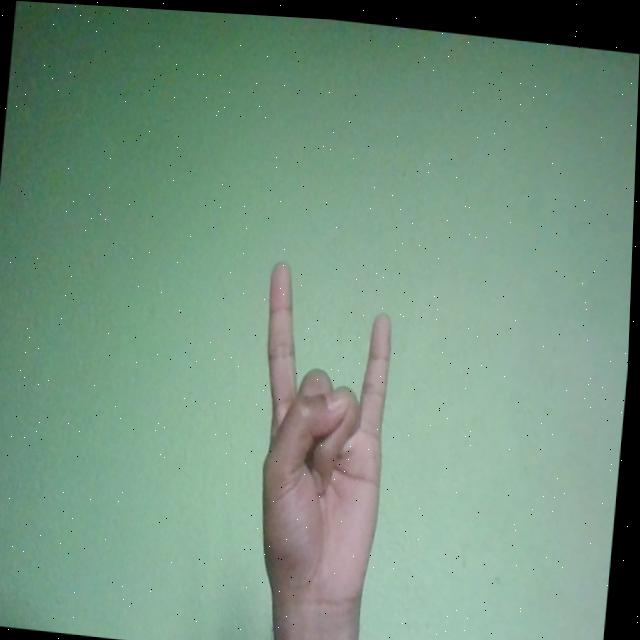Rock On: (243, 254, 402, 621)
